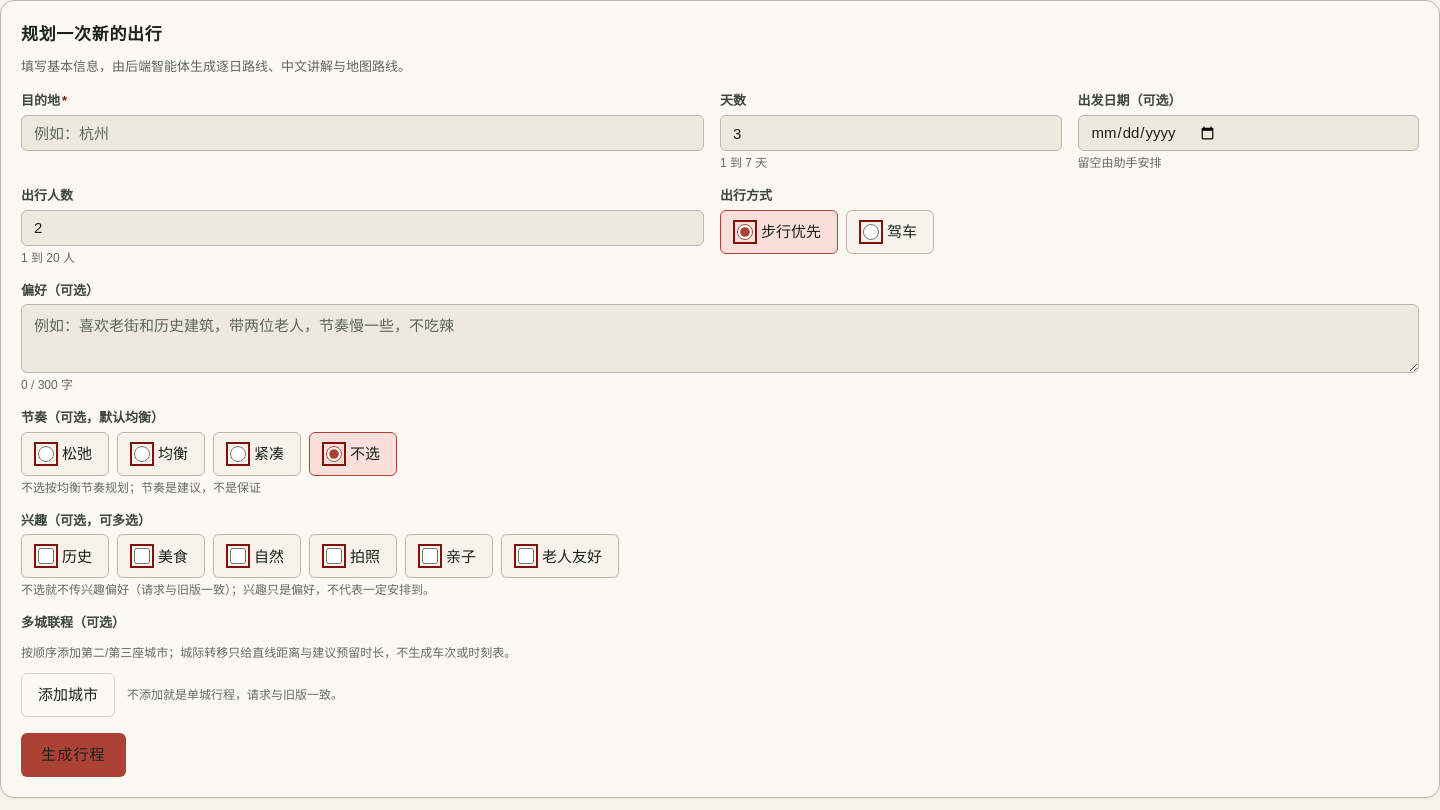
it: PlanForm › 选中档位显示对应阈值说明（均衡 → ≤6 站）
Click the radio button labelled "均衡". click: point(142, 454)
box: [134,446,150,462]
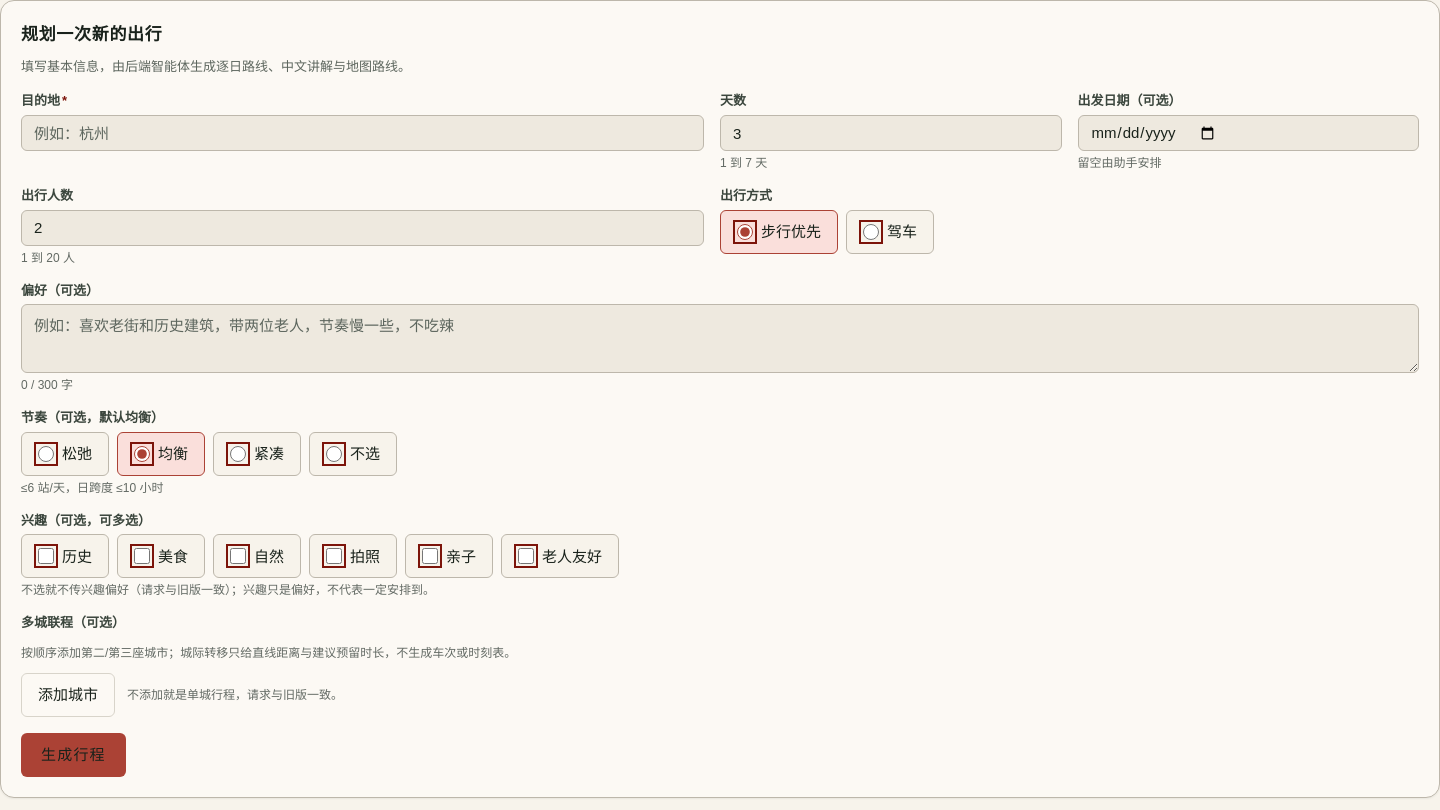
Now the element with test id "pace-field" shows "≤6 站/天", box [21,481,164,495]
